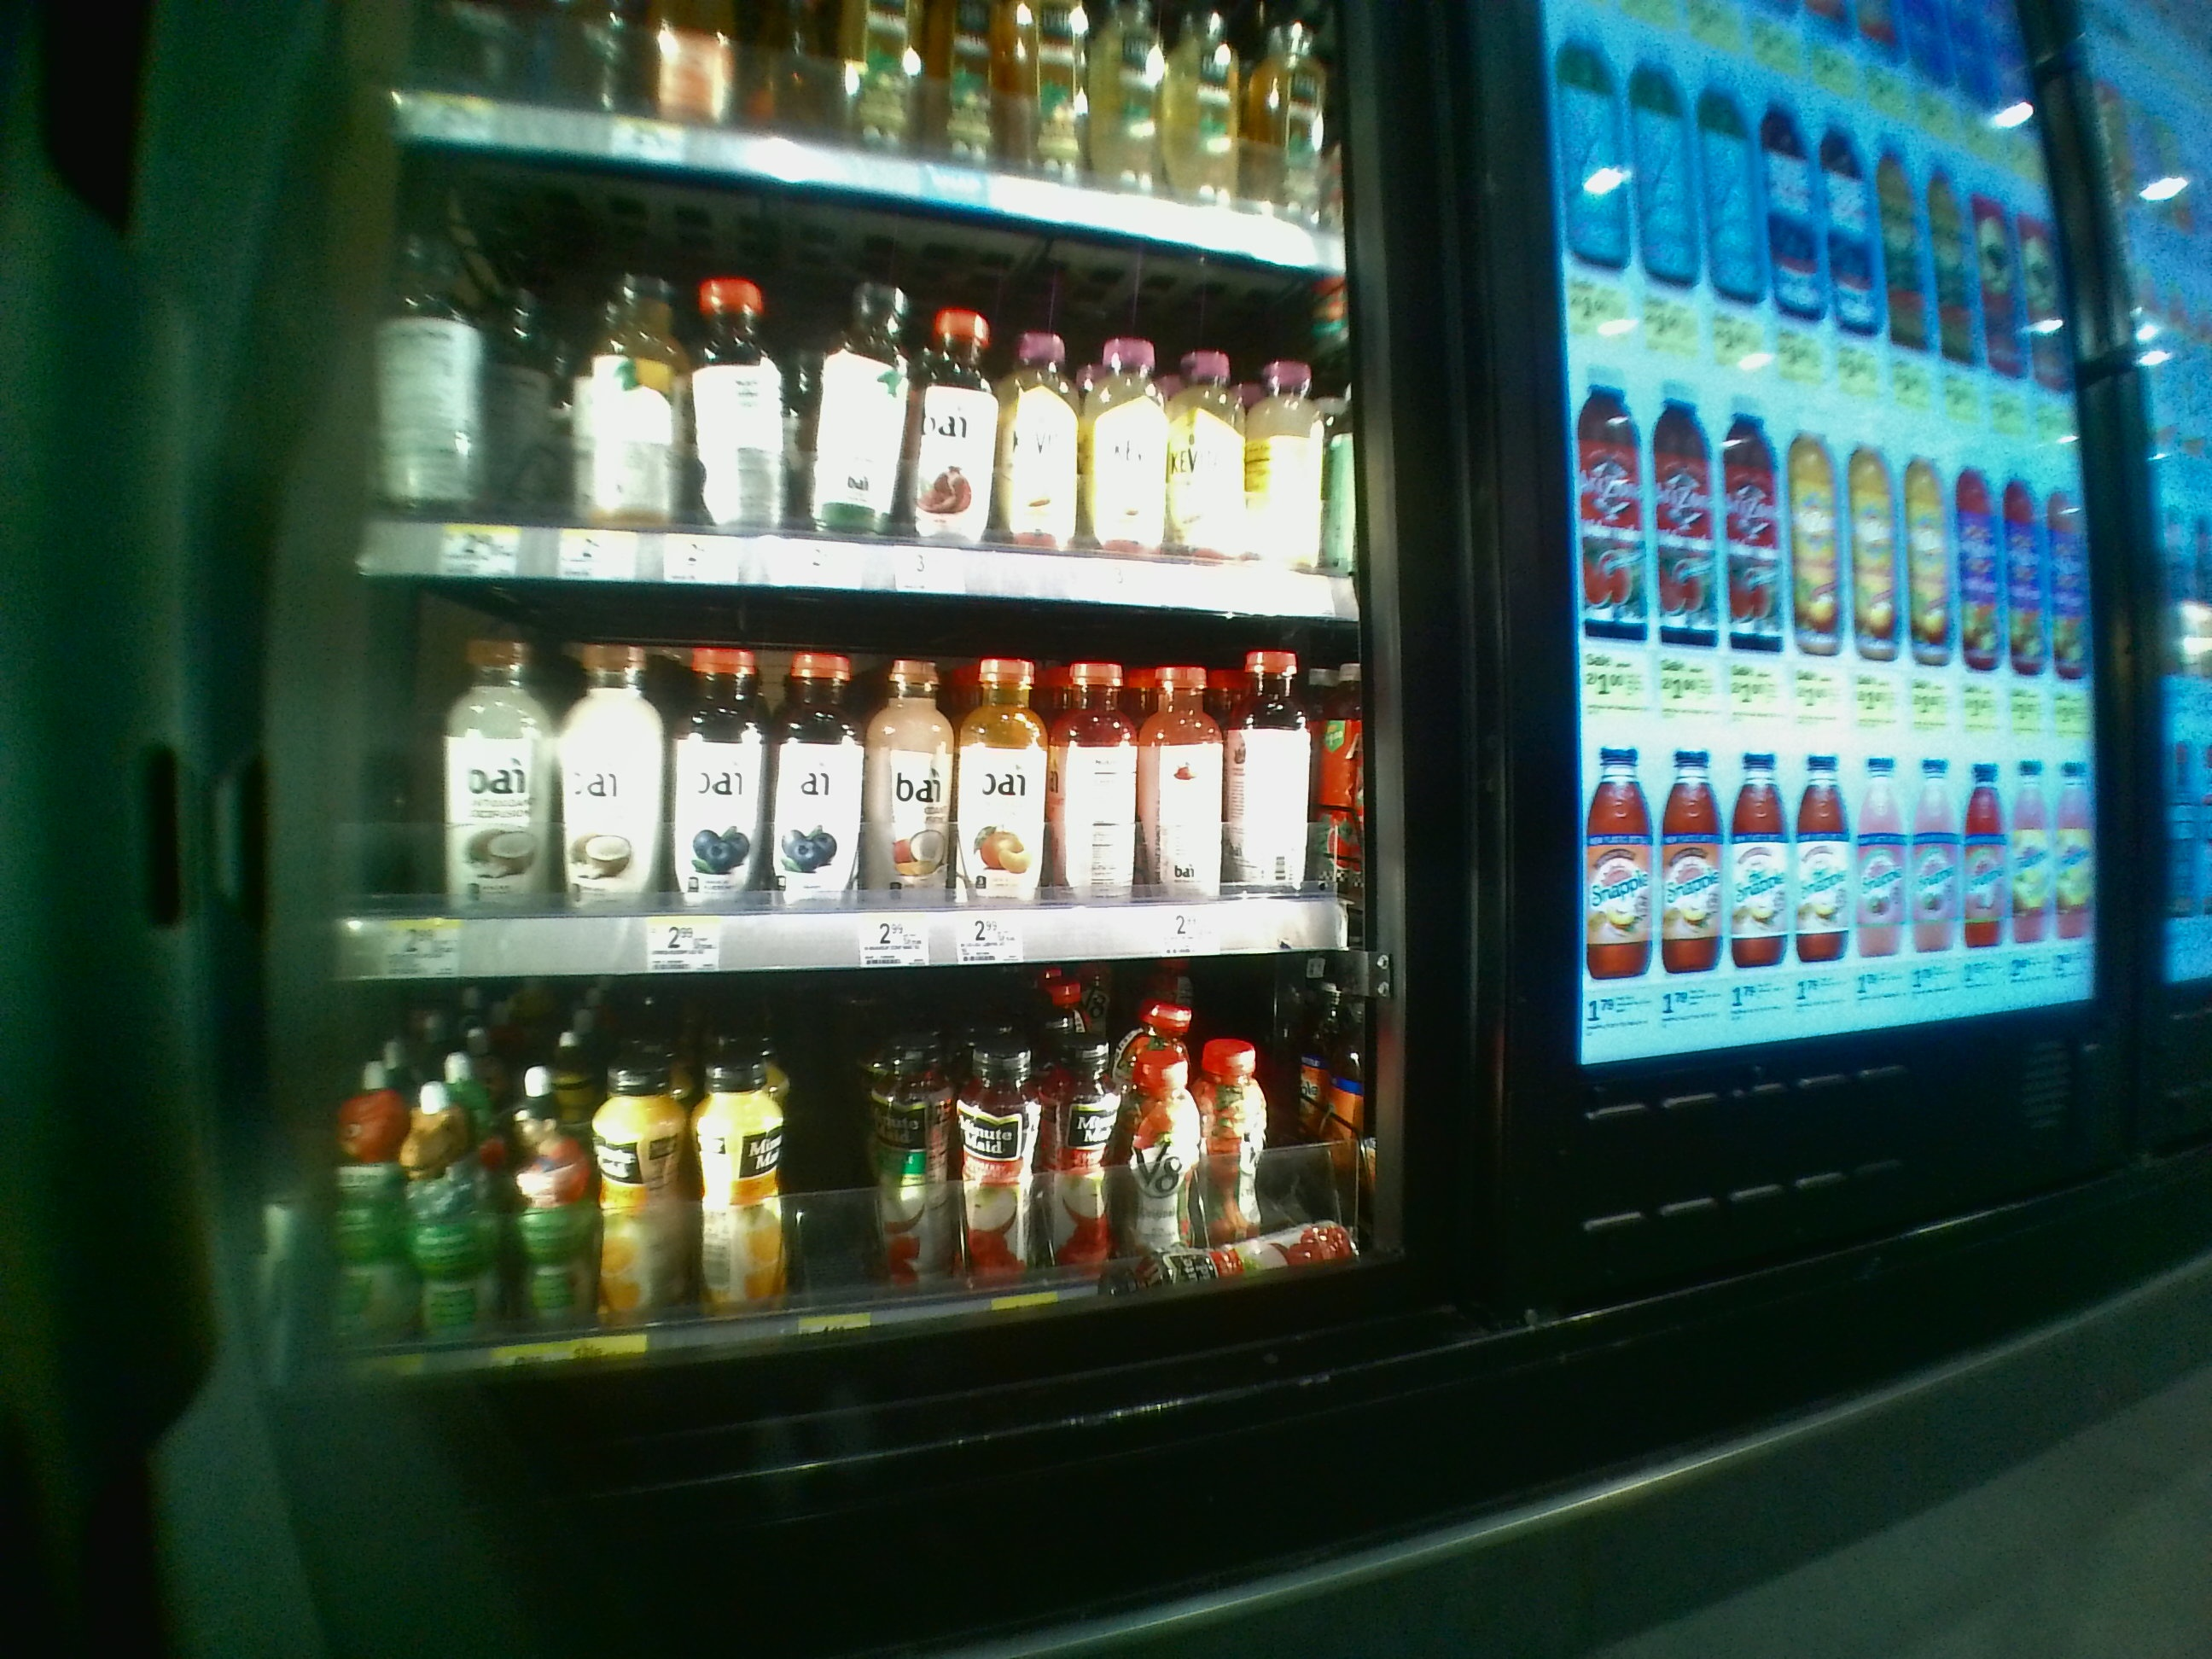shelf: (354, 152, 1360, 619), (329, 983, 1371, 1389), (340, 627, 1371, 969)
